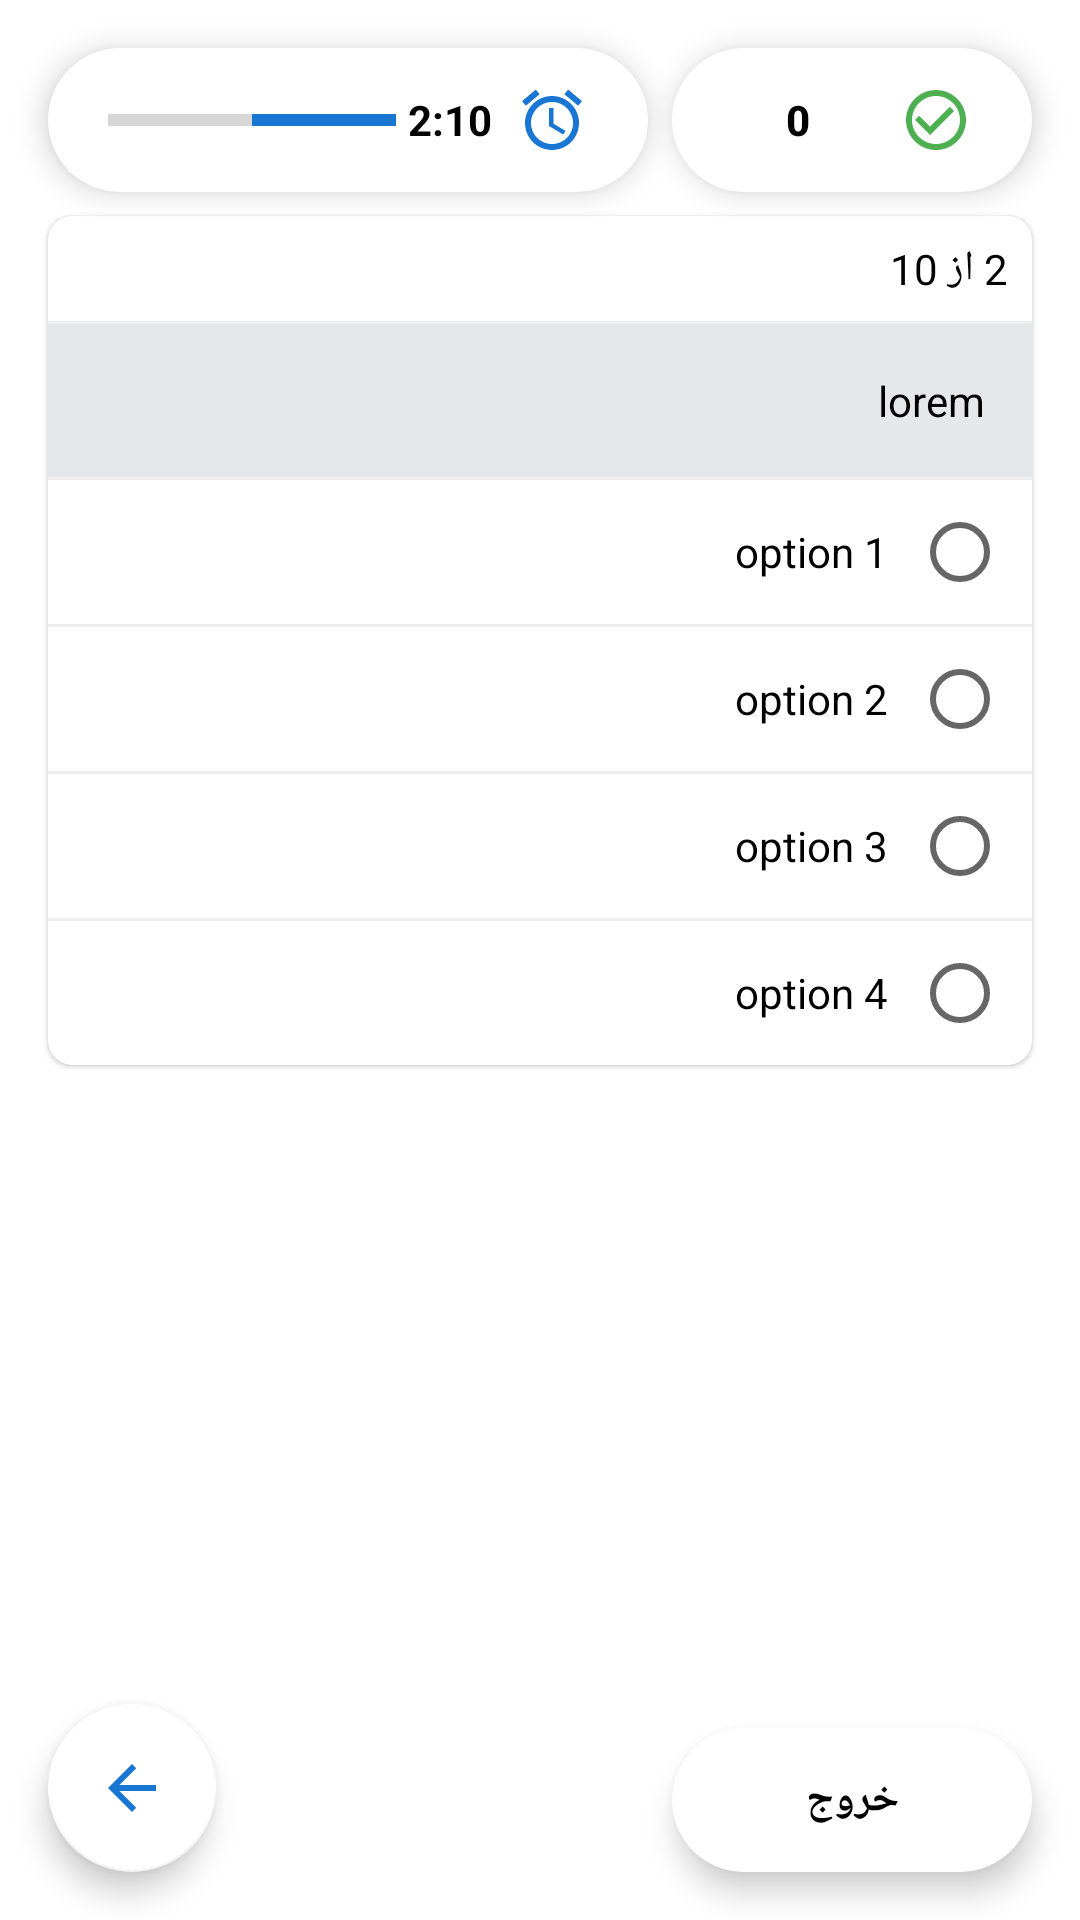

Where to tap for icons on this 1080x1920 app screen, as (x,y):
arrow left: (129,1818)
